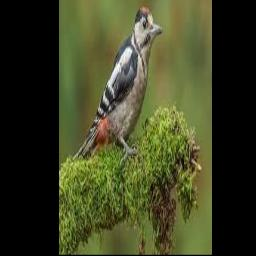Woodpecker: (73, 6, 162, 162)
